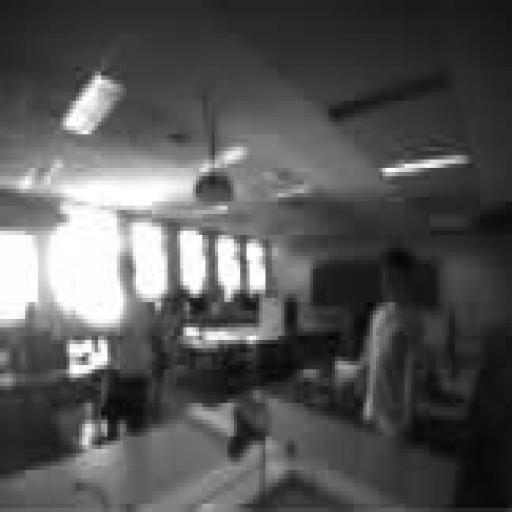human: (361, 248, 423, 436), (102, 256, 154, 440), (152, 290, 186, 415)
